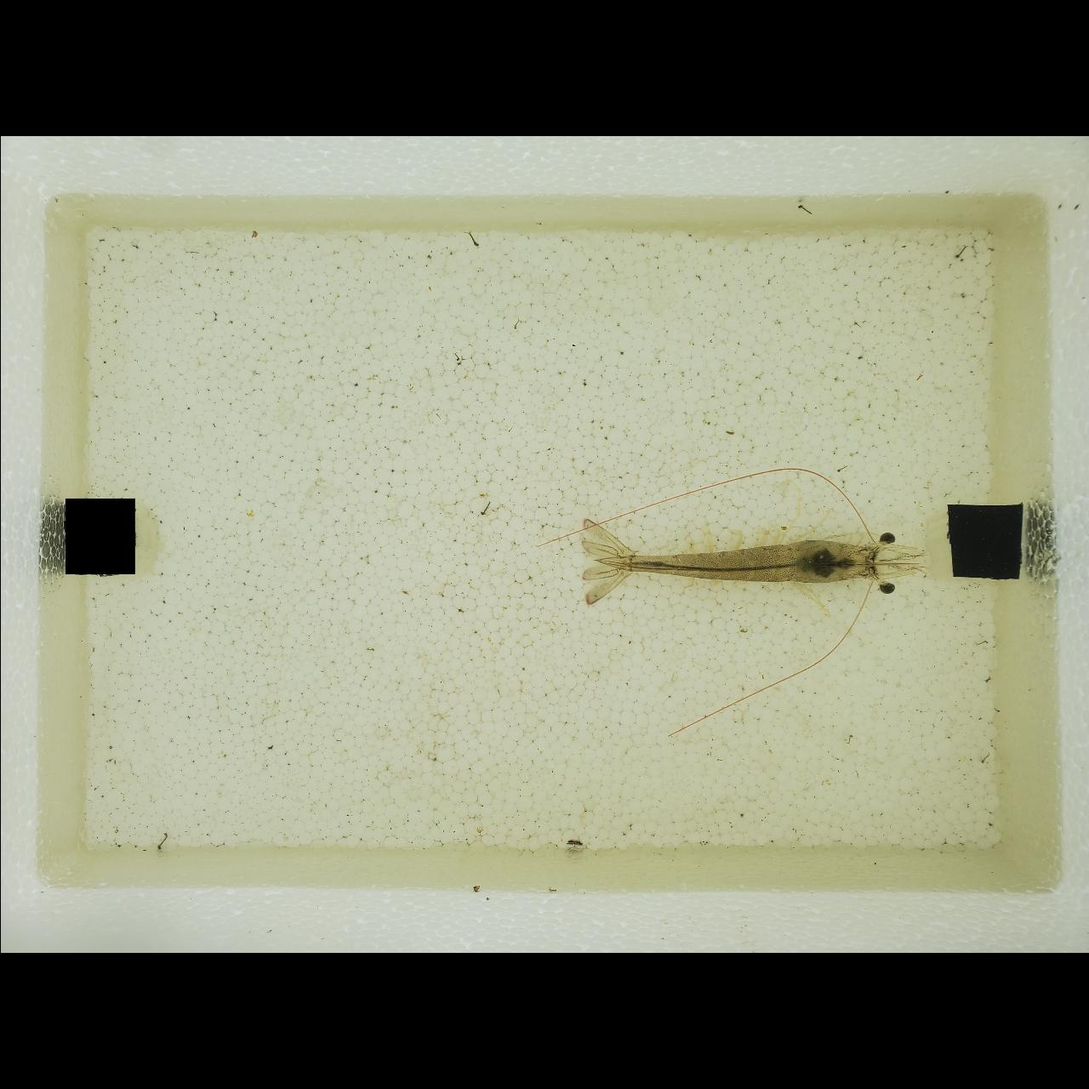box: (944, 503, 1022, 579), (62, 497, 136, 576)
top_shrimp: (589, 539, 872, 584)
